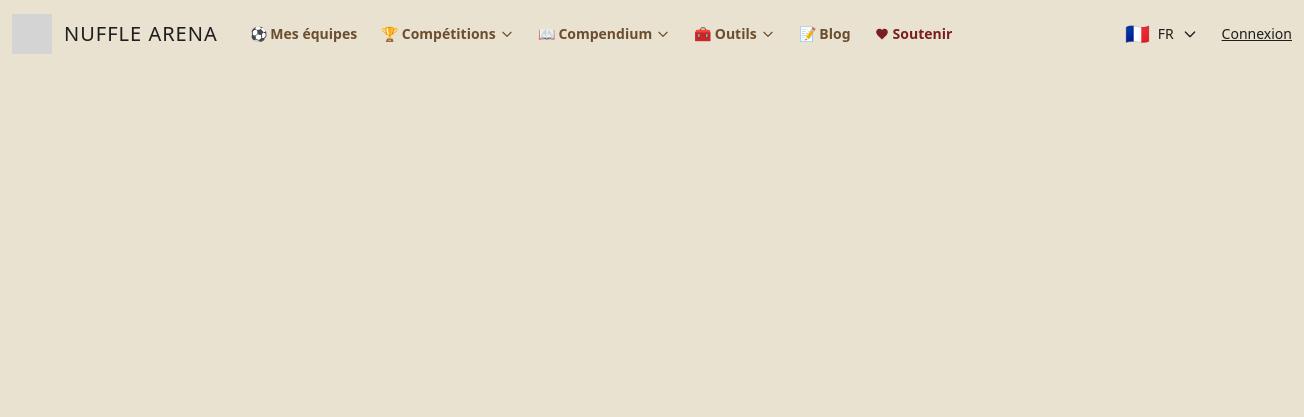
Test: Header — lien vers l'aide du site › figure dans le menu Compendium du bureau
What coordinates should you click on to do the following:
click the button "📖 Compendium"
I would click on:
 (604, 34)
Its box is [538,24,670,44].
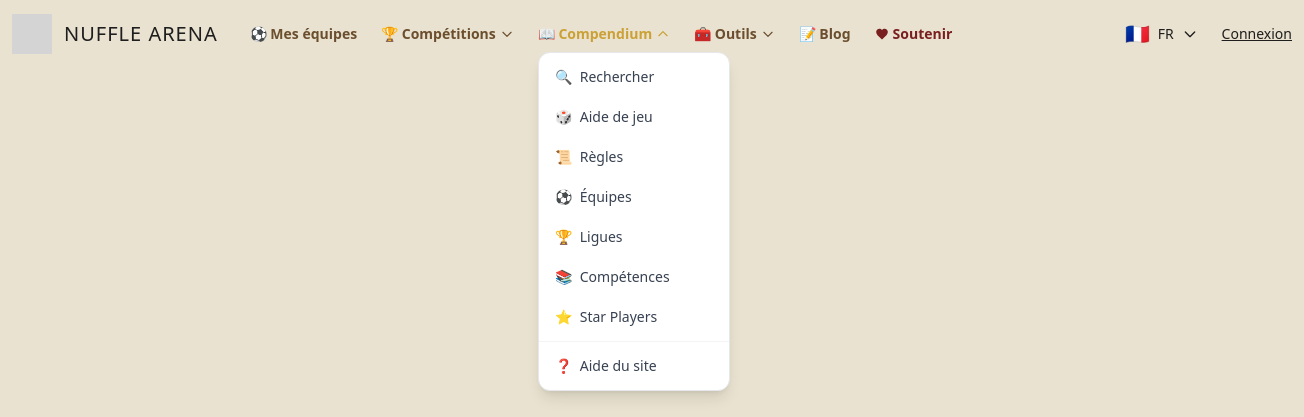
Expected: the link to "/aide" shows "Aide du site", [555,356,657,375]
